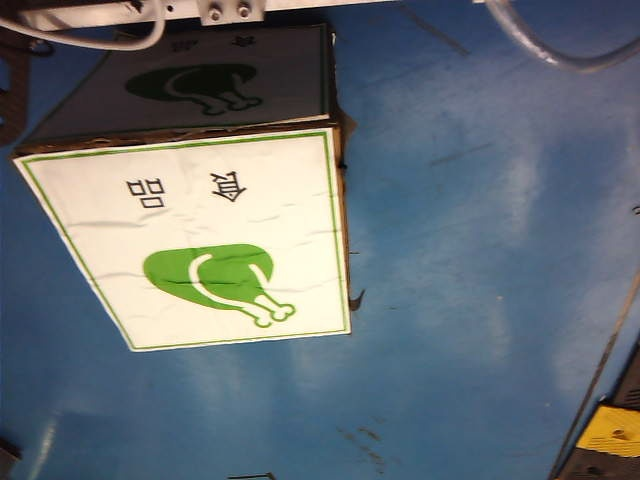Cube_food: (108, 158, 321, 333)
